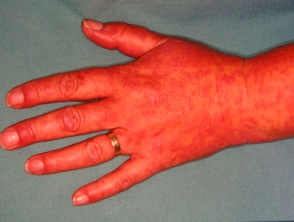SJS-TEN: (97, 17, 294, 180)
